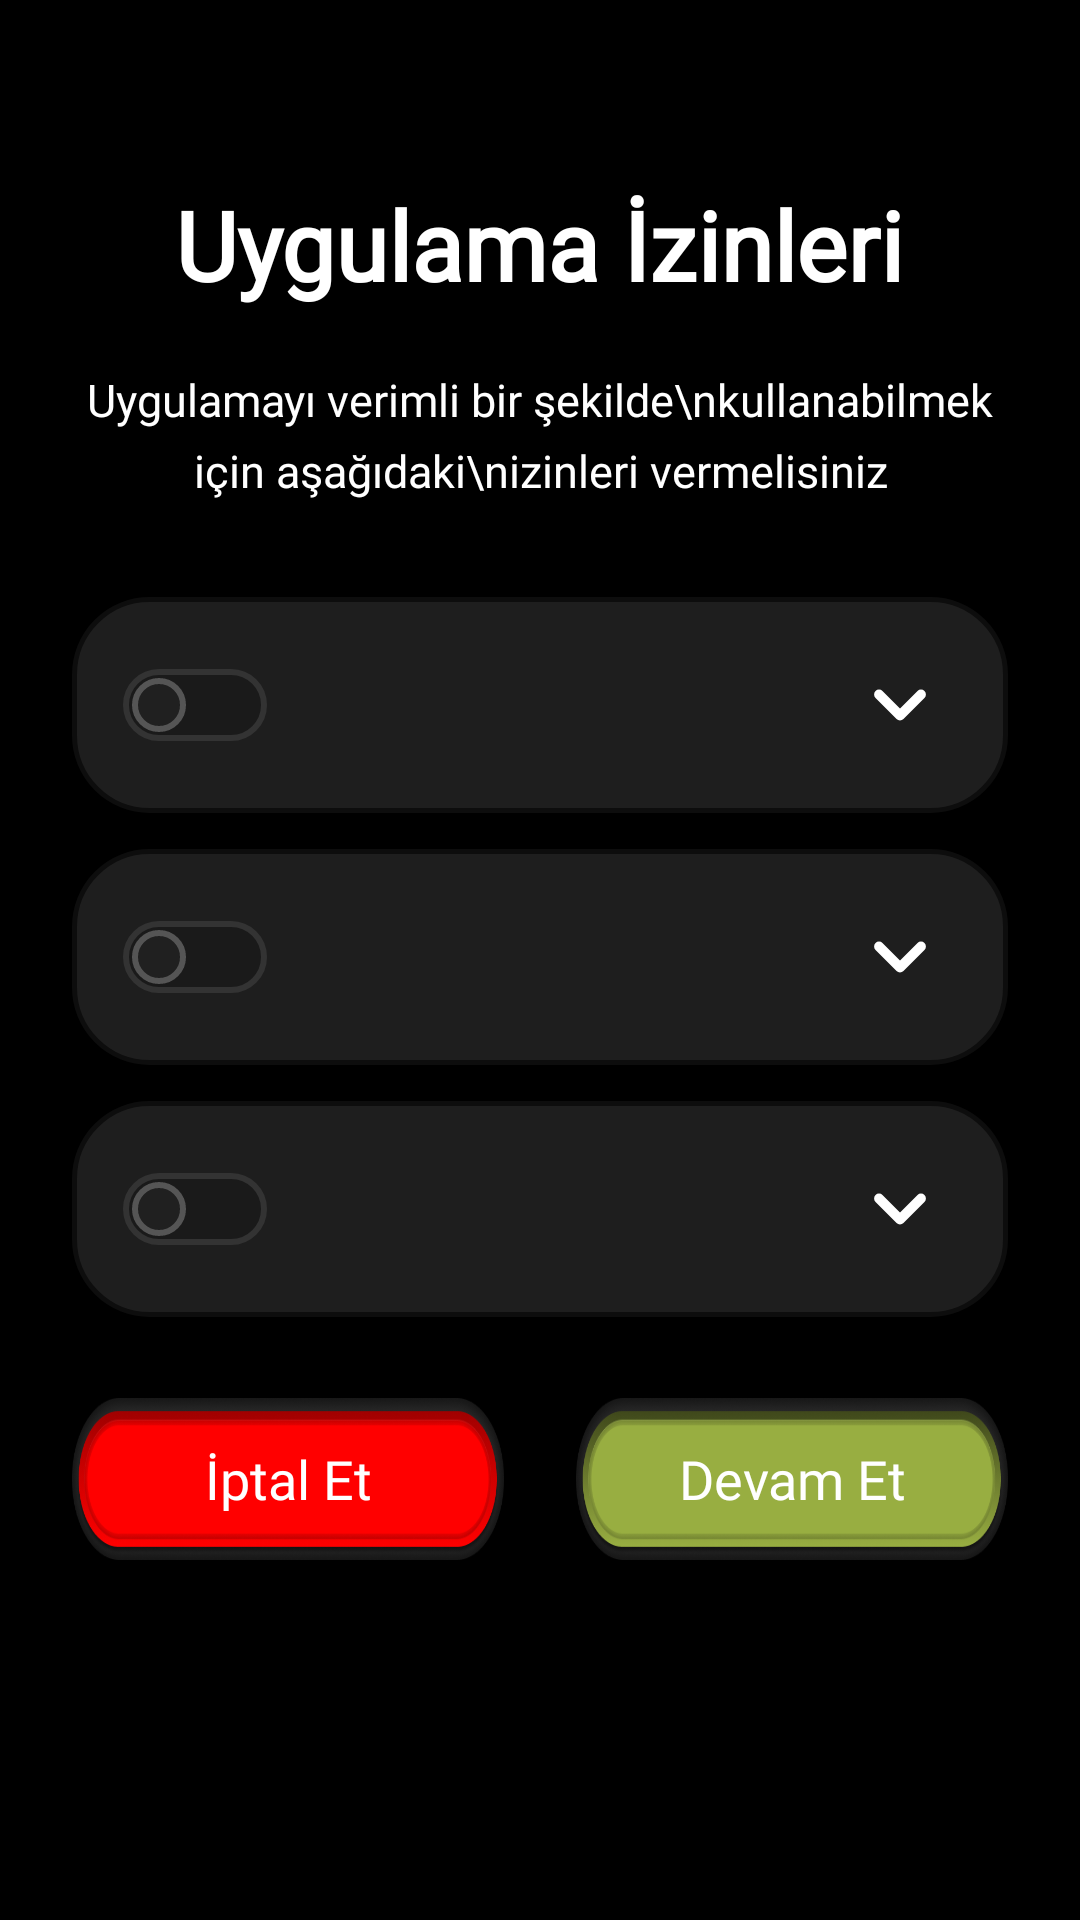

Icon click points for this 1080×1920 phone screenshot, format point (x, y):
arrow down: point (900, 705), point (900, 957), point (900, 1209)
